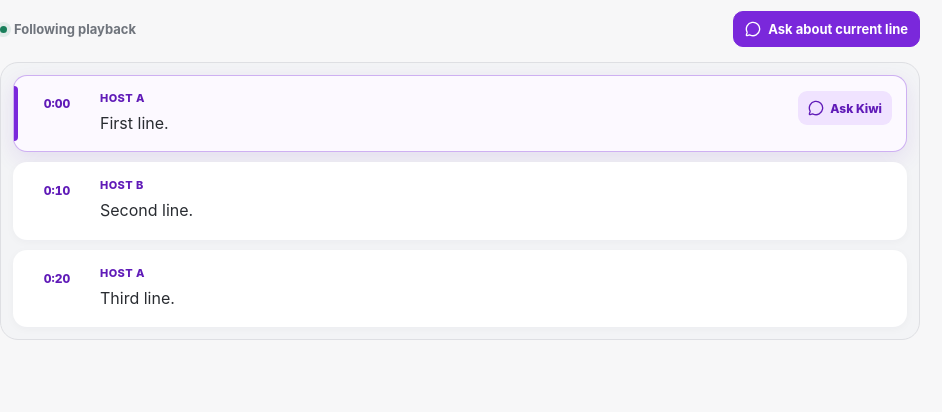
Test: TranscriptReader › does not claim Kiwi Chat was updated in Simulator mode
Click the button "Ask about current line": (827, 29) [733,11,920,47]
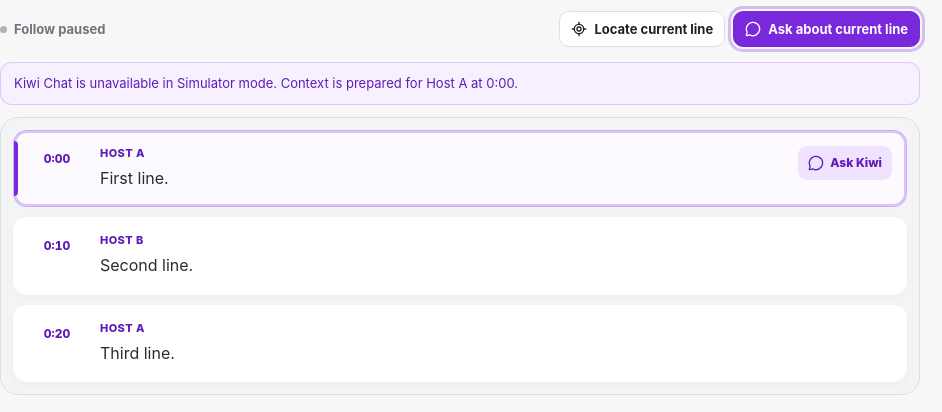
expect the message shows "Kiwi Chat is unavailable in Simulator mode": met, box [14,75,518,91]
